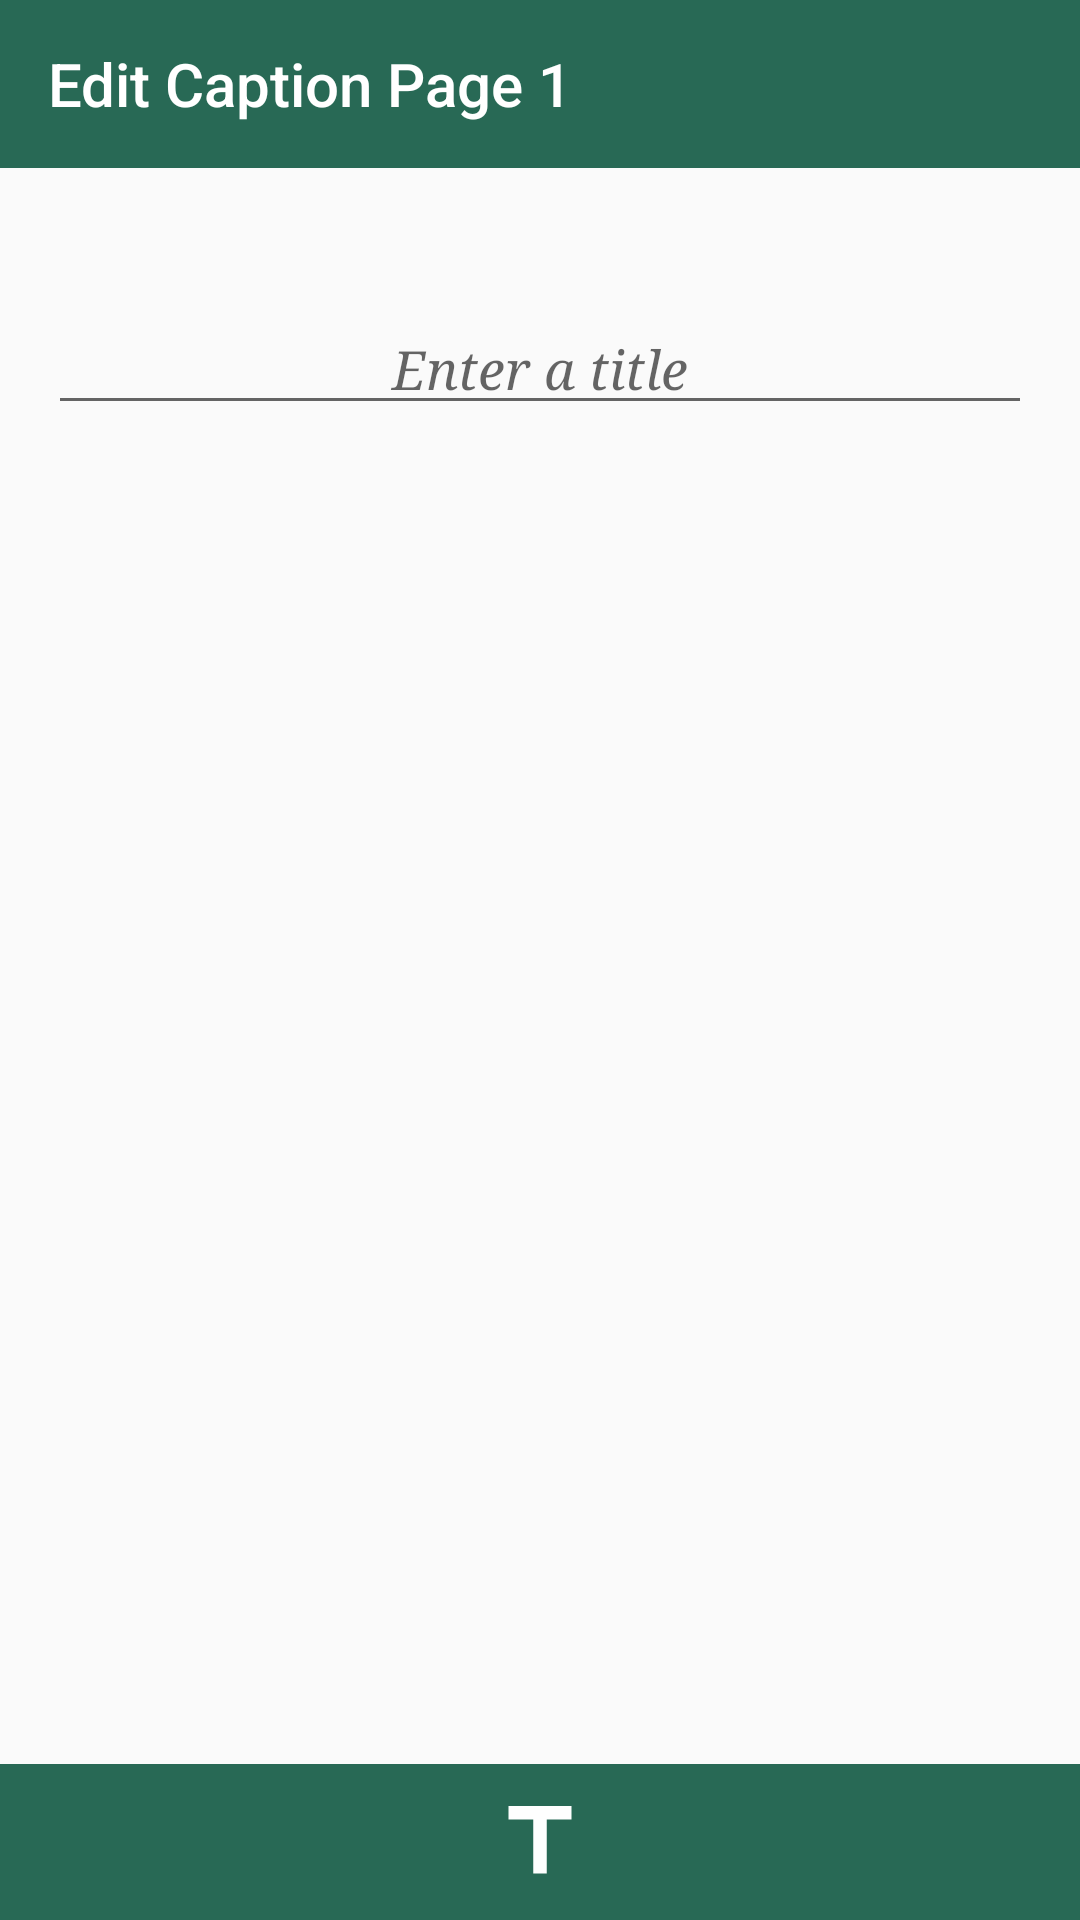

Icon bounding boxes for this 1080 x 1920 phone screenshot, format (x1, y1, x2, y2):
text: (508, 1806, 572, 1874)
